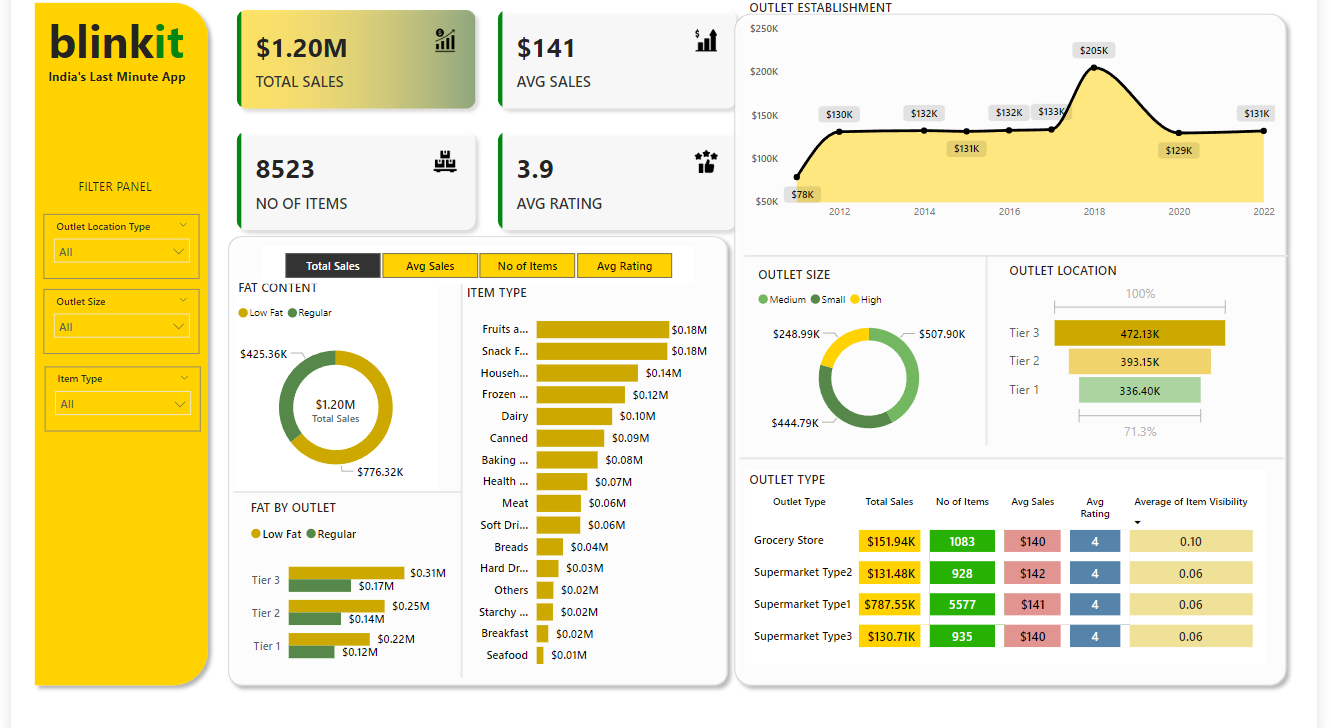

This screenshot's page, from the dashboard's own definition file:
{"tool":"powerbi","page":{"name":"Page 1","canvas":[1400,800],"ordinal":0},"visuals":[{"type":"shape","box":[16.5,0,204.1,750.4],"z":0},{"type":"textbox","box":[34.5,12,168.1,78],"z":1000},{"type":"textbox","box":[34.5,73.5,181.6,33],"z":2000},{"type":"cardVisual","fields":{"Data":["BlinkIT Grocery Data.Total Sales","BlinkIT Grocery Data.Avg Sales","BlinkIT Grocery Data.No of Items","BlinkIT Grocery Data.Avg Rating"]},"box":[225.2,0,571,270.8],"z":3000},{"type":"shape","box":[223.9,250.7,553.6,500],"z":4000},{"type":"donutChart","title":"FAT CONTENT","fields":{"Y":["BlinkIT Grocery Data.Total Sales"],"Category":["BlinkIT Grocery Data.Item Fat Content"]},"box":[238.6,305.6,219.8,230.6],"z":5000},{"type":"slicer","fields":{"Values":["Metrics.Metrics"]},"box":[268.1,270.8,465.1,40.2],"z":6000},{"type":"cardVisual","fields":{"Data":["BlinkIT Grocery Data.Total Sales"]},"box":[289.5,408.8,118,75.1],"z":7000},{"type":"clusteredBarChart","title":"FAT BY OUTLET","fields":{"Y":["BlinkIT Grocery Data.Total Sales"],"Category":["BlinkIT Grocery Data.Outlet Location Type"],"Series":["BlinkIT Grocery Data.Item Fat Content"]},"box":[252,541.6,219.8,191.7],"z":8000},{"type":"shape","box":[458.4,311,49.6,422.3],"z":9000},{"type":"shape","box":[238.6,526.8,245.3,14.7],"z":10000},{"type":"barChart","title":"ITEM TYPE","fields":{"Y":["BlinkIT Grocery Data.Total Sales"],"Category":["BlinkIT Grocery Data.Item Type"]},"box":[483.9,311,268.1,422.3],"z":11000},{"type":"shape","box":[766.8,12.1,609.9,738.6],"z":12000},{"type":"lineChart","title":"OUTLET ESTABLISHMENT","fields":{"Category":["BlinkIT Grocery Data.Outlet Establishment Year"],"Y":["BlinkIT Grocery Data.Total Sales"]},"box":[786.9,5.4,573.7,245.3],"z":13000},{"type":"shape","box":[786.9,270.8,583.1,20.1],"z":14000},{"type":"donutChart","title":"OUTLET SIZE","fields":{"Y":["BlinkIT Grocery Data.Total Sales"],"Category":["BlinkIT Grocery Data.Outlet Size"]},"box":[796.3,290.9,248,197.1],"z":15000},{"type":"shape","box":[1021.5,280.2,49.6,203.8],"z":16000},{"type":"funnel","title":"OUTLET LOCATION","fields":{"Y":["Sum(BlinkIT Grocery Data.Sales)"],"Category":["BlinkIT Grocery Data.Outlet Location Type"]},"box":[1065.7,286.9,246.7,197.1],"z":17000},{"type":"shape","box":[781.5,487.9,583.1,20.1],"z":18000},{"type":"pivotTable","title":"OUTLET TYPE","fields":{"Rows":["BlinkIT Grocery Data.Outlet Type"],"Values":["BlinkIT Grocery Data.Total Sales","BlinkIT Grocery Data.No of Items","BlinkIT Grocery Data.Avg Sales","BlinkIT Grocery Data.Avg Rating","Avg(BlinkIT Grocery Data.Item Visibility)"]},"box":[786.9,510.7,559,209.1],"z":19000},{"type":"slicer","fields":{"Values":["BlinkIT Grocery Data.Outlet Location Type"]},"box":[34.9,235.9,167.6,69.7],"z":20000},{"type":"slicer","fields":{"Values":["BlinkIT Grocery Data.Outlet Size"]},"box":[34.9,316.4,167.6,69.7],"z":21000},{"type":"slicer","fields":{"Values":["BlinkIT Grocery Data.Item Type"]},"box":[36.2,399.5,167.6,69.7],"z":22000},{"type":"textbox","box":[67,191.7,115.3,34.9],"z":23000}]}

Visuals, with their boxes on the page's 1400x800 design canvas (x1, y1, x2, y2). These are canvas units, not pixel positions in the 1331x728 screenshot, which may show the page scaled, cropped or inside an application window:
shape: 16 0 221 750
textbox: 34 12 203 90
textbox: 34 74 216 106
cardVisual - BlinkIT Grocery Data.Total Sales x BlinkIT Grocery Data.Avg Sales: 225 0 796 271
shape: 224 251 778 751
"FAT CONTENT" donutChart: 239 306 458 536
slicer - Metrics.Metrics: 268 271 733 311
cardVisual - BlinkIT Grocery Data.Total Sales: 290 409 408 484
"FAT BY OUTLET" clusteredBarChart: 252 542 472 733
shape: 458 311 508 733
shape: 239 527 484 542
"ITEM TYPE" barChart: 484 311 752 733
shape: 767 12 1377 751
"OUTLET ESTABLISHMENT" lineChart: 787 5 1361 251
shape: 787 271 1370 291
"OUTLET SIZE" donutChart: 796 291 1044 488
shape: 1022 280 1071 484
"OUTLET LOCATION" funnel: 1066 287 1312 484
shape: 782 488 1365 508
"OUTLET TYPE" pivotTable: 787 511 1346 720
slicer - BlinkIT Grocery Data.Outlet Location Type: 35 236 202 306
slicer - BlinkIT Grocery Data.Outlet Size: 35 316 202 386
slicer - BlinkIT Grocery Data.Item Type: 36 400 204 469
textbox: 67 192 182 227
